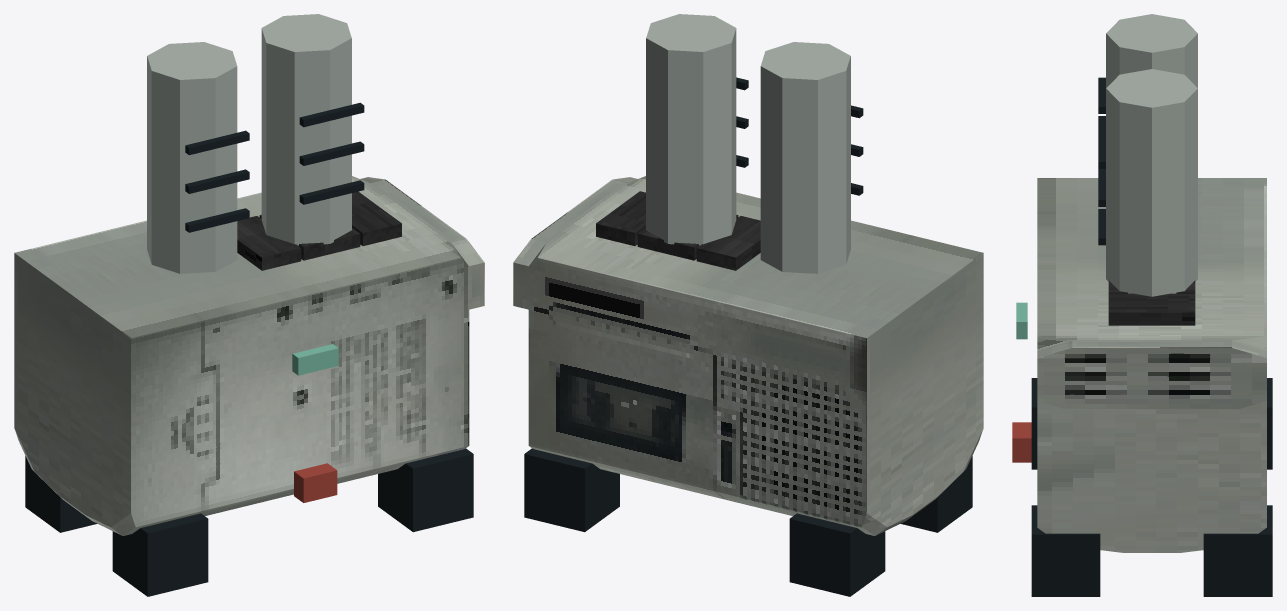
Rendered from blender_sound_sensor_2.glb.
3 renders of one model, left to right at view 1: azimuth 30°, elevation 25°; view 2: azimuth 150°, elevation 25°; view 3: azimuth 270°, elevation 25°, orthographic.
Parts seen in each view (by area): view 1: blender_sound_sensor_2; view 2: blender_sound_sensor_2; view 3: blender_sound_sensor_2.
Boxes of the visible parts, x1,y1,x2,y2 form: blender_sound_sensor_2: (14,14,484,596); blender_sound_sensor_2: (513,14,983,596); blender_sound_sensor_2: (1012,14,1272,596).
Size of the model in its own units: 0.105 by 0.132 by 0.068.
Materials: 1 (1 with a texture image).
